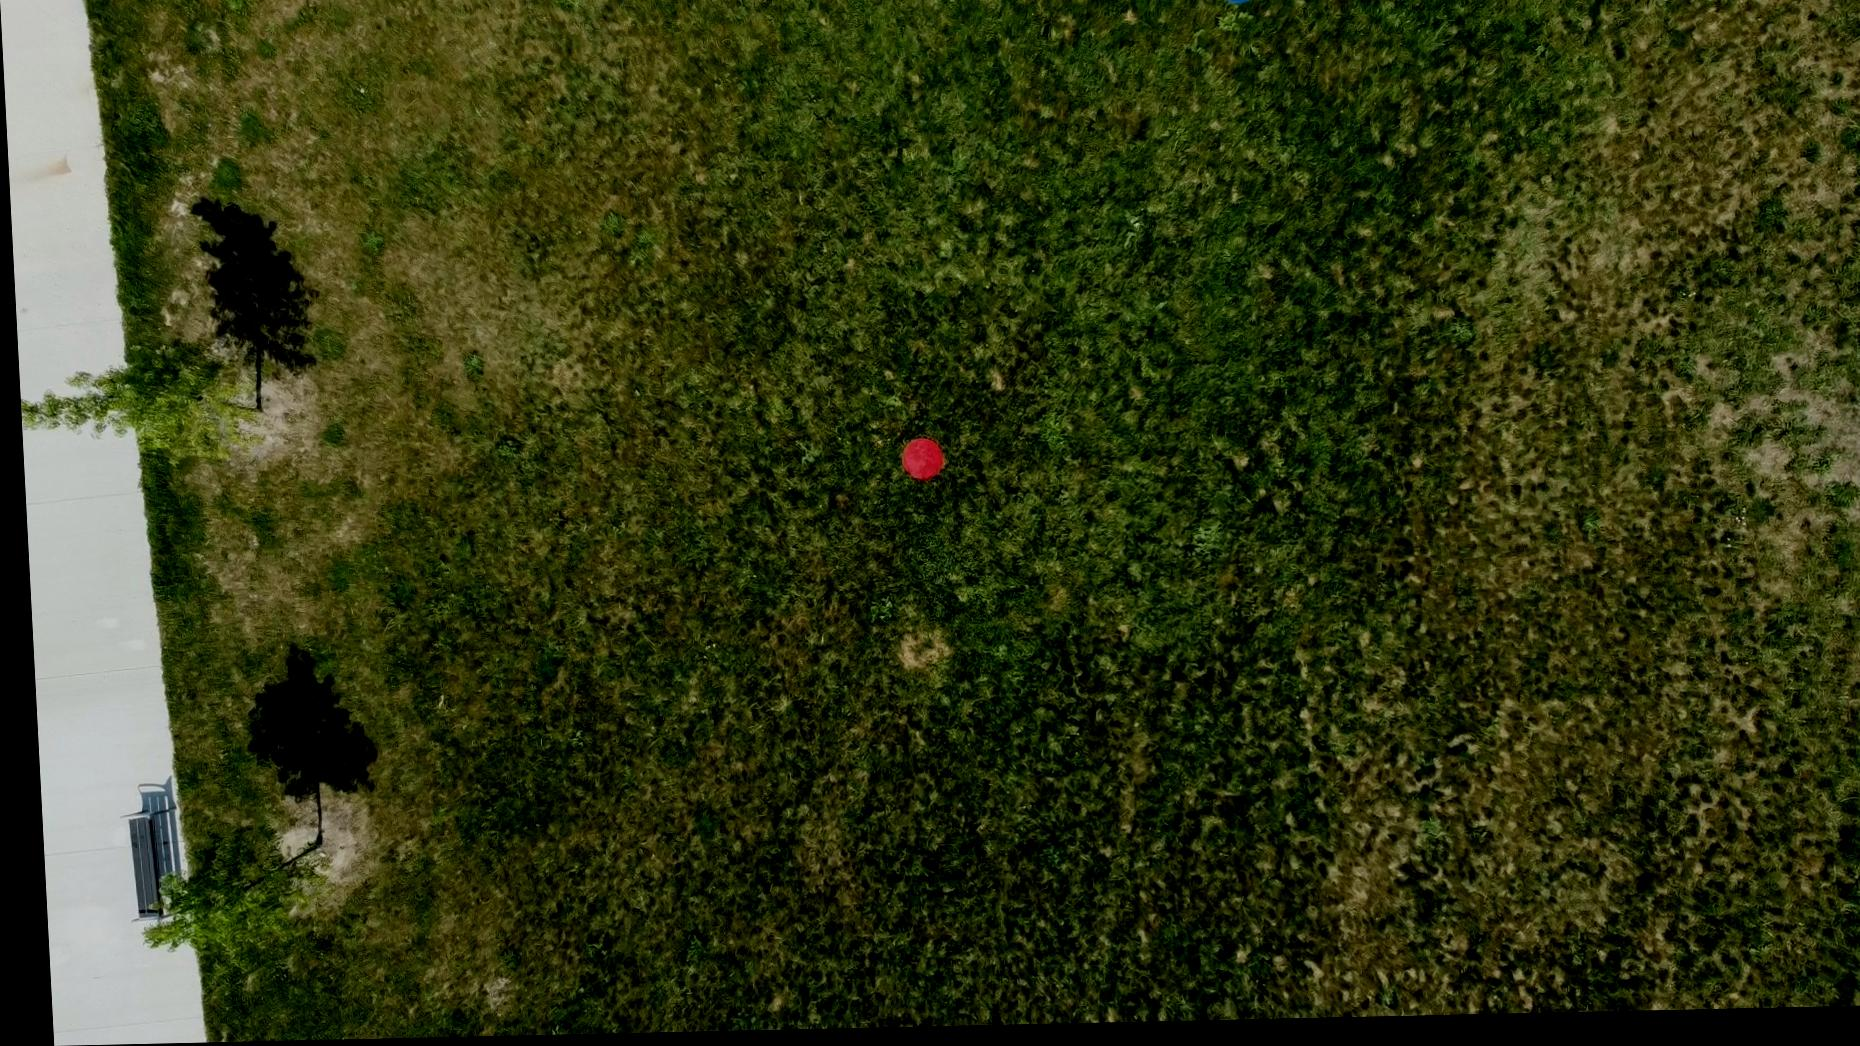Blue: (1215, 0, 1263, 10)
Red: (896, 442, 941, 487)
